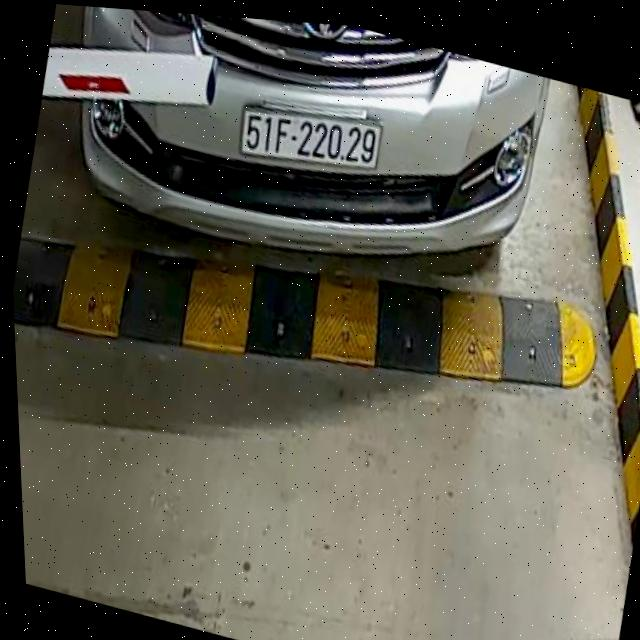car: (38, 3, 570, 334)
plate: (229, 85, 392, 197)
